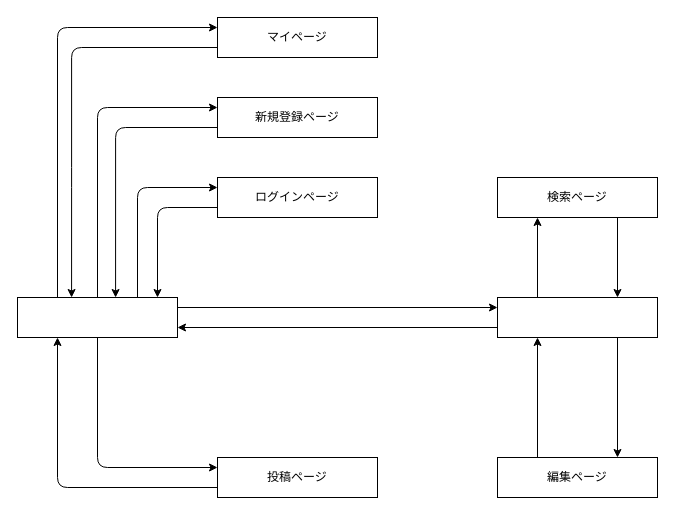
This 675x515 diagram has some shape labels left out. Here are the shapes that lost their labels. From the top down, the box of each, then its label:
(16, 296, 178, 338): トップページ
(496, 296, 658, 338): 詳細ページ
